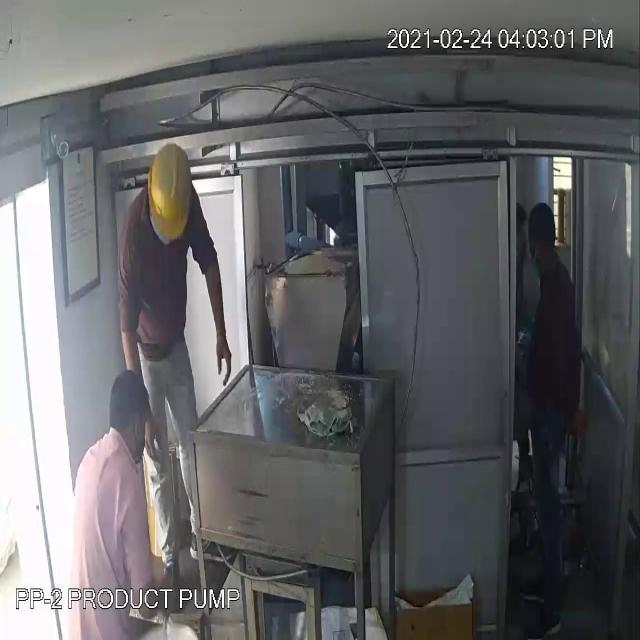helmet: (144, 136, 196, 256)
no-helmet: (106, 365, 158, 464)
